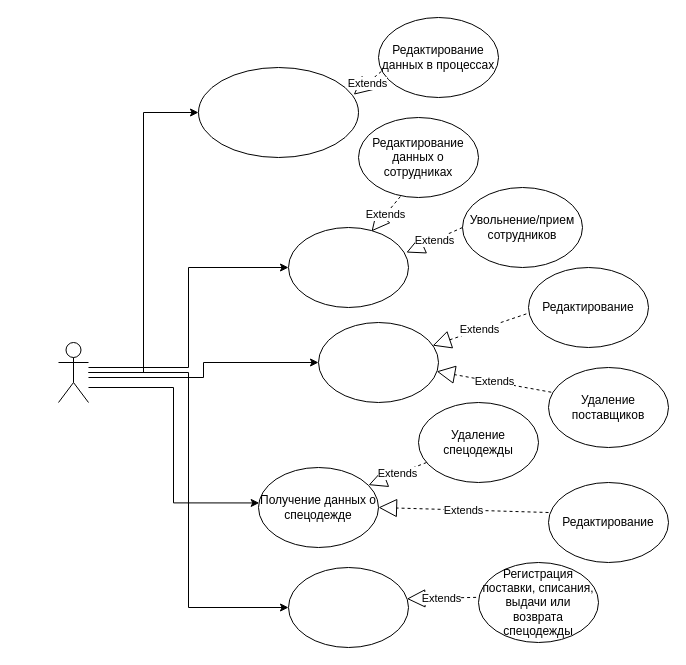
This 686x665 diagram has some shape labels left out. The shapes that lost their labels are listed below. From the top down, each one's centre as x and y in pixels, then its label:
At point (278, 112): "Формирование отчетов о поставках, выдачах, возвратах и списаниях спецодежды".
At point (348, 267): "Получение данных сотрудников".
At point (73, 372): "Ответственный за учет спецодежды".
At point (378, 362): "Получение данных о поставщиках".
At point (348, 607): "Получение данных склада".
